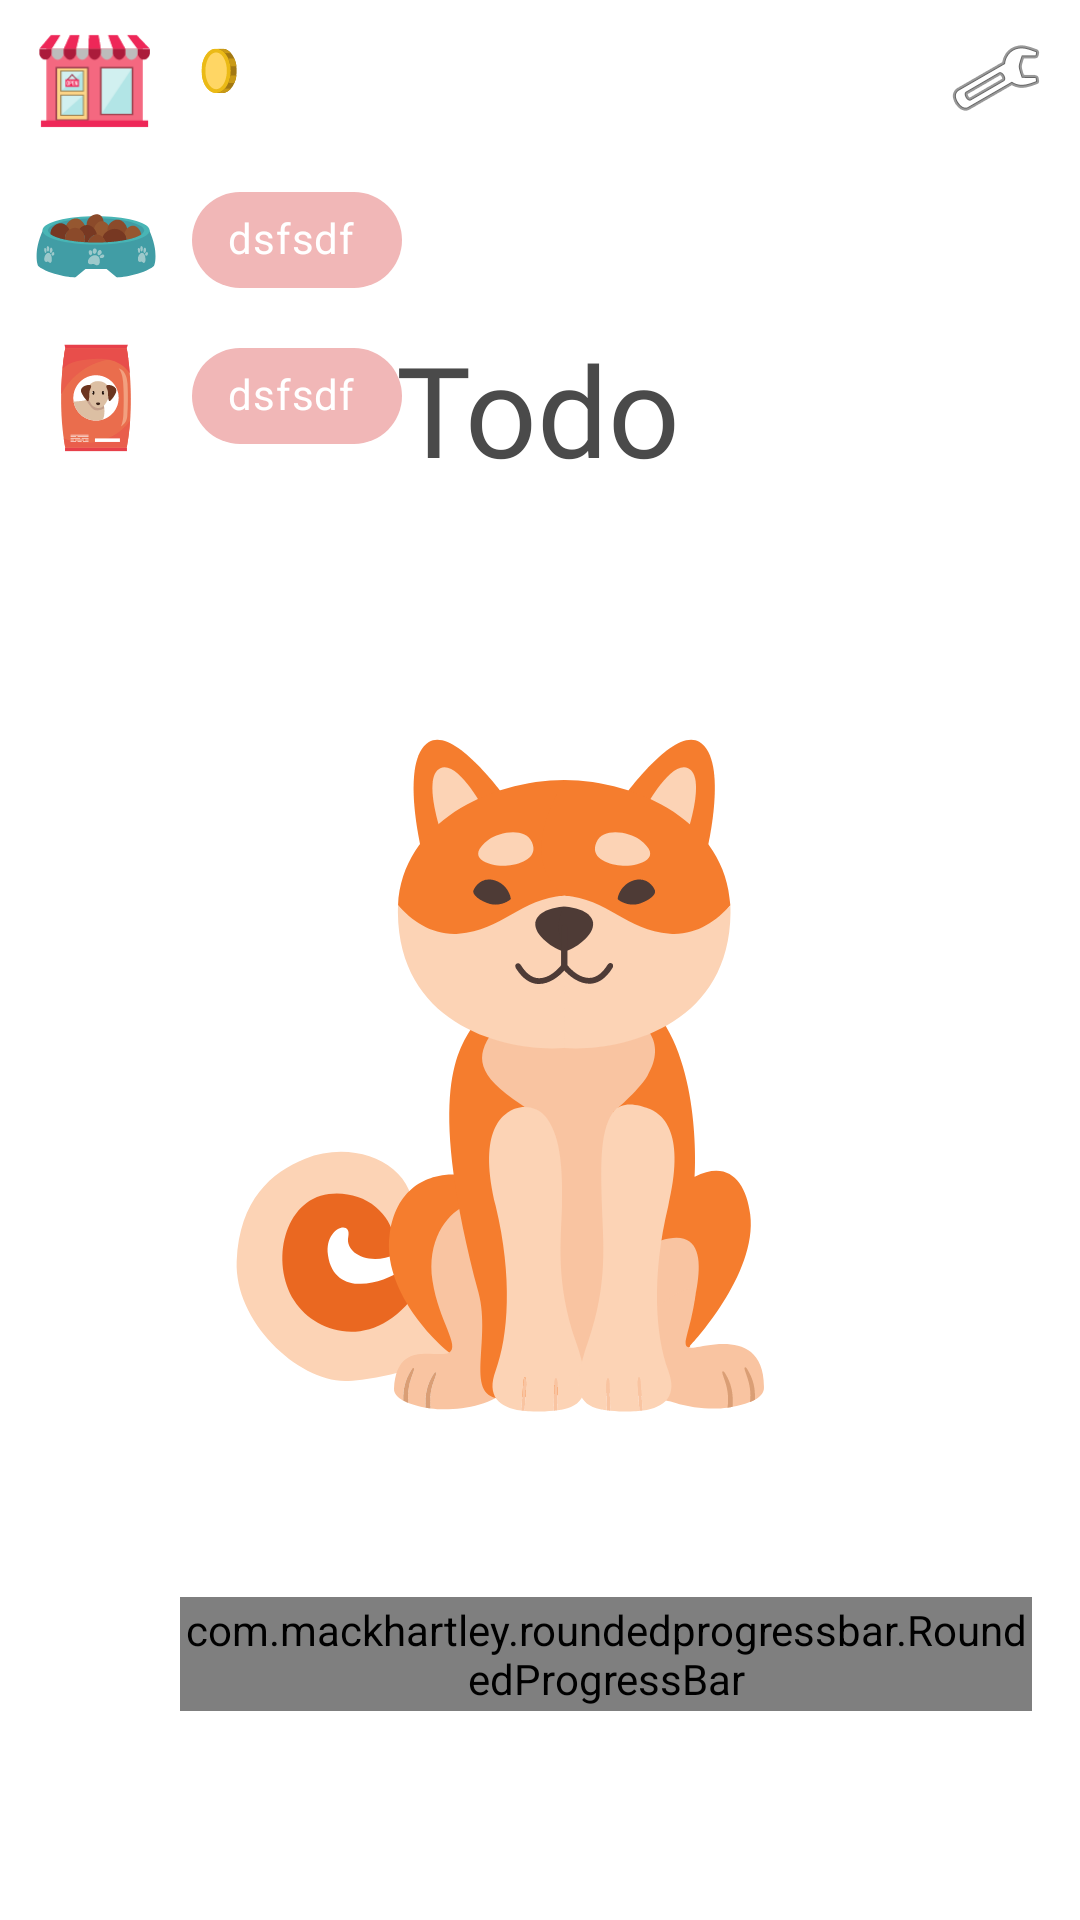

Icons on this 1080×1920 Android screen, each with its box as (x1, y1, x2, y2):
coin: (201, 48, 237, 93)
dog food: (36, 214, 156, 278)
dog food rich: (61, 344, 131, 451)
manage: (953, 45, 1039, 111)
store: (39, 35, 150, 127)
